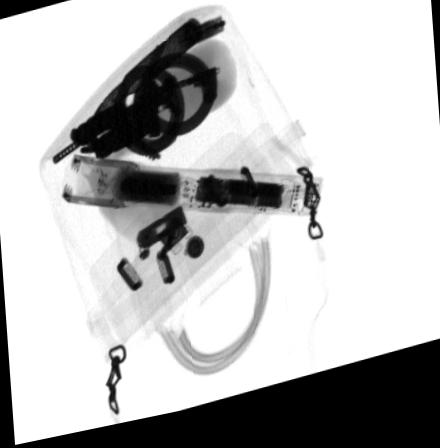Baton: (61, 157, 323, 230)
Bullet: (84, 24, 204, 131)
Gun: (52, 76, 210, 168)
HandCuffs: (70, 46, 217, 166)
